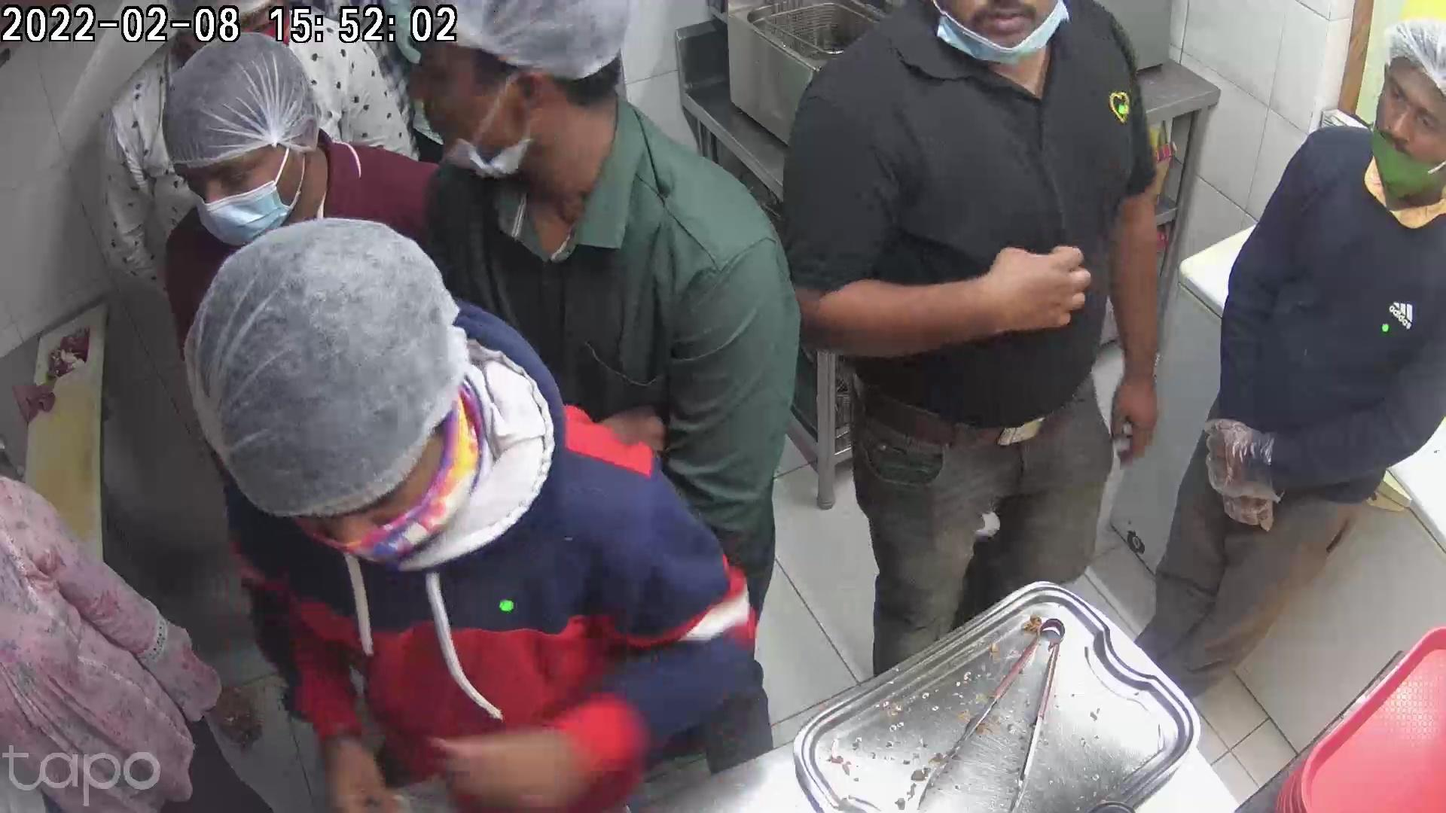no_gloves: (940, 243, 1086, 335)
